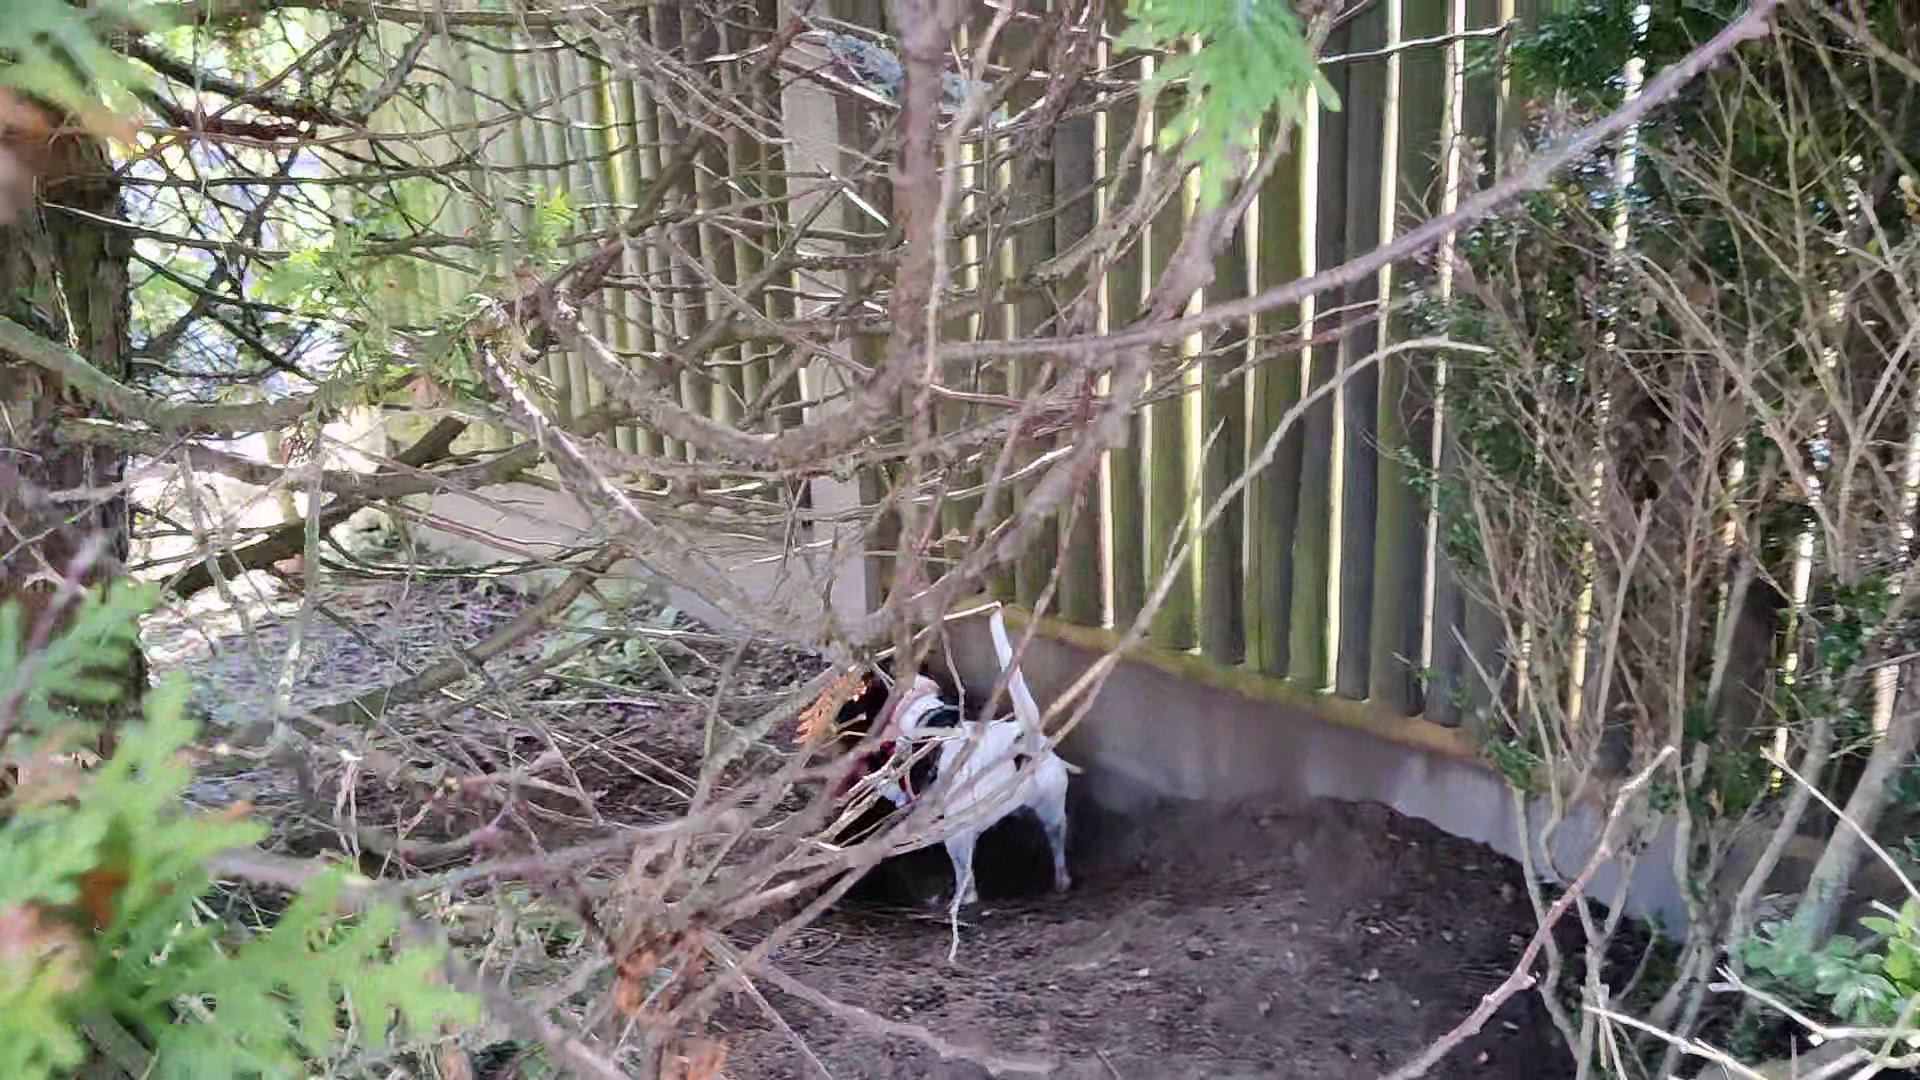Dog: (818, 604, 1097, 915)
